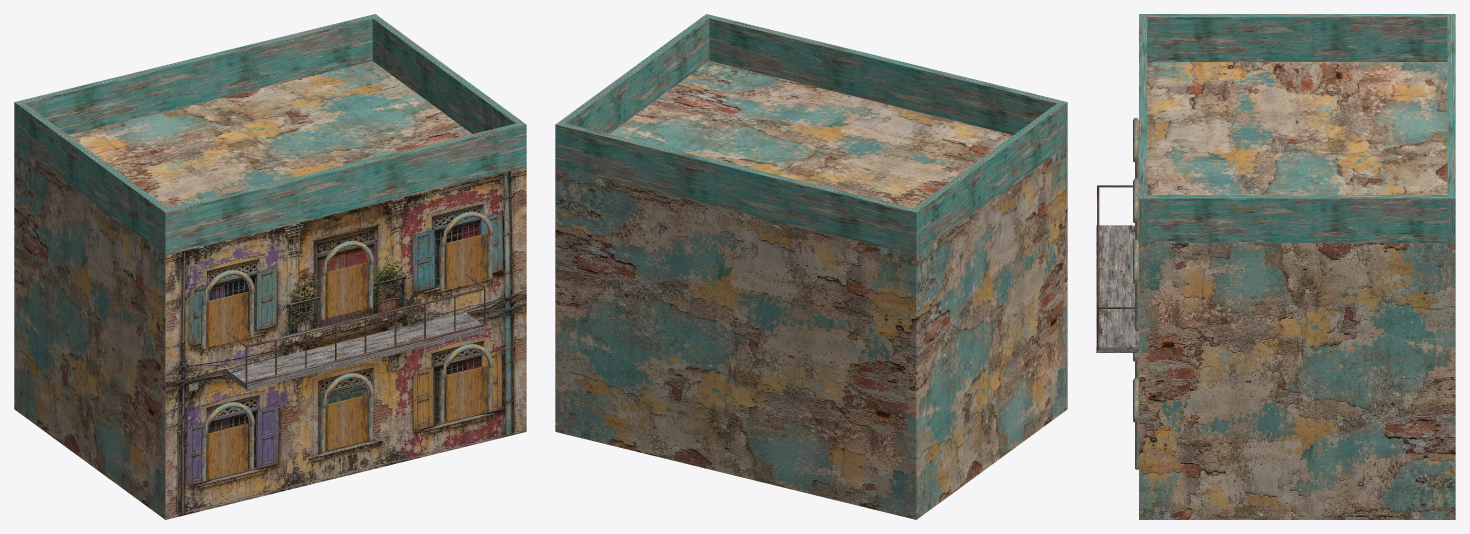
File: bld_oldhaka_block_4.glb
3 renders of one model, left to right at view 1: azimuth 30°, elevation 25°; view 2: azimuth 150°, elevation 25°; view 3: azimuth 270°, elevation 25°, orthographic. The views are drawn at different scales.
Parts seen in each view (by area): view 1: bld_oldhaka_block_4; view 2: bld_oldhaka_block_4; view 3: bld_oldhaka_block_4.
Part boxes in pixels (x1=…): bld_oldhaka_block_4: x1=14, y1=14, x2=526, y2=519; bld_oldhaka_block_4: x1=555, y1=14, x2=1067, y2=519; bld_oldhaka_block_4: x1=1096, y1=14, x2=1455, y2=519.
Bounding box in the file's own units: 8 × 6.5 × 6.58.
6 materials, 6 textured.
